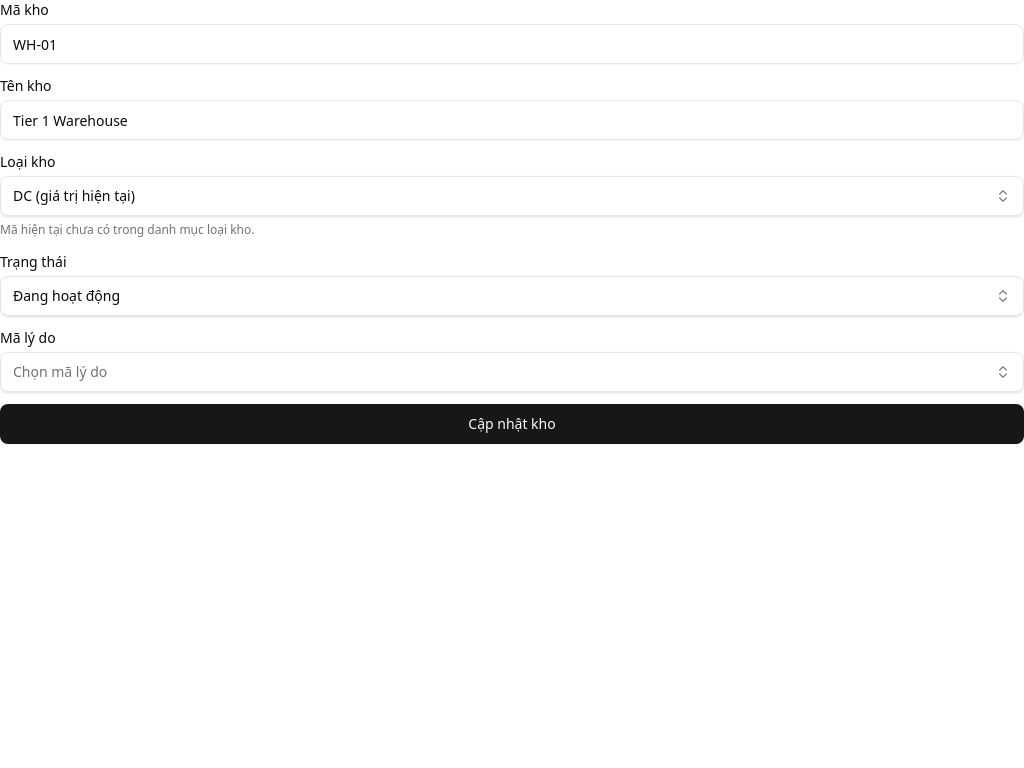
Test: Site & Location Tree components › renders warehouse type select from catalog and keeps legacy current value visible
Expected: the text "DC (giá trị hiện tại)" is shown, [13, 186, 135, 205]
Click the dropdown named "Loại kho" at coordinates (74, 196), box [0, 176, 1023, 216]
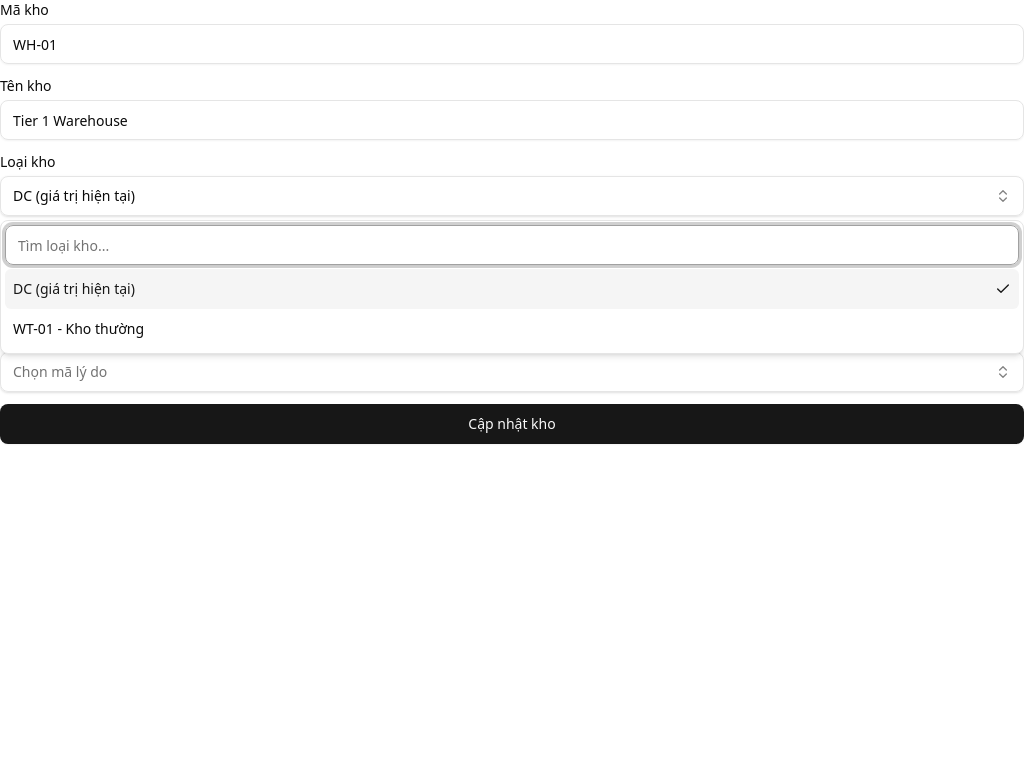
Expected: the option "WT-01 - Kho thường" is shown, [13, 319, 144, 338]
